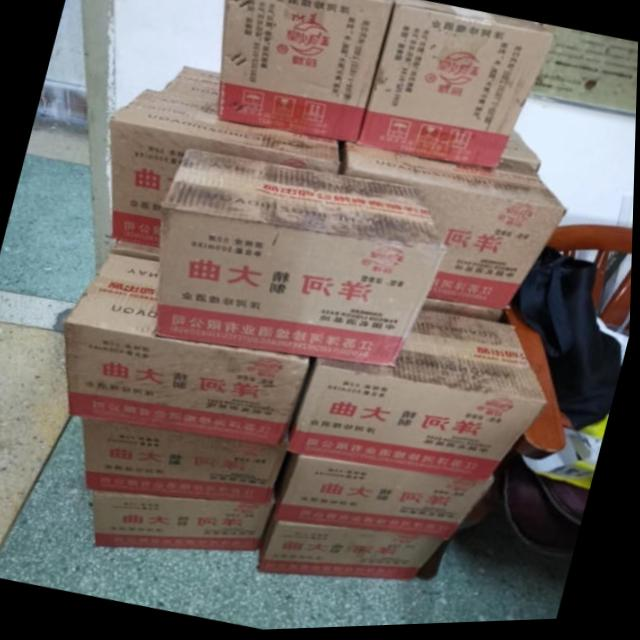box: (155, 150, 447, 371), (67, 252, 312, 448), (289, 312, 549, 485), (342, 144, 567, 313), (110, 88, 342, 248), (357, 0, 555, 172), (219, 0, 393, 145), (277, 456, 496, 543), (82, 417, 290, 506), (261, 510, 448, 583), (95, 491, 278, 552), (159, 66, 220, 103), (422, 299, 505, 326), (502, 131, 542, 177), (111, 242, 160, 263)
